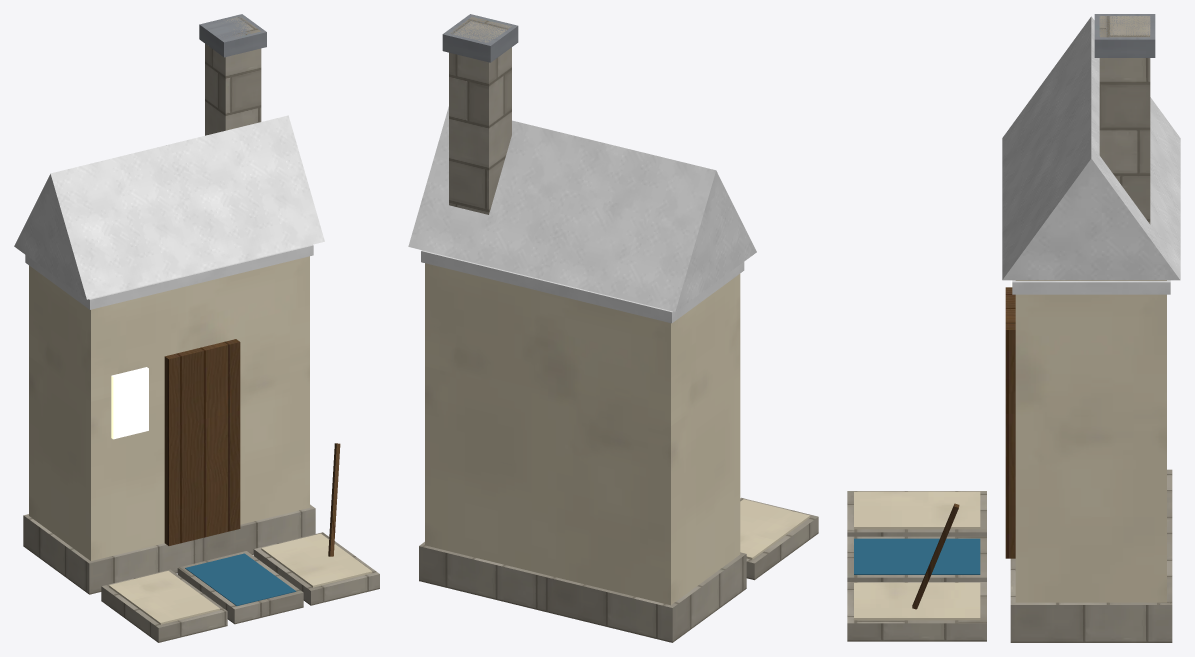
The model's file is protocol.ethena.glb.
3 views of the same model, side by side, from view 1: azimuth 30°, elevation 25°; view 2: azimuth 150°, elevation 25°; view 3: azimuth 270°, elevation 25° (orthographic). The views are drawn at different scales.
Visible parts, largest first — view 1: building.protocol.ethena; view 2: building.protocol.ethena; view 3: building.protocol.ethena.
Part boxes in pixels (x1=…): building.protocol.ethena: x1=14, y1=14, x2=379, y2=642; building.protocol.ethena: x1=408, y1=14, x2=818, y2=642; building.protocol.ethena: x1=847, y1=14, x2=1180, y2=642.
Bounding box in the file's own units: 2 × 3.9 × 1.98.
8 materials, 6 textured.
